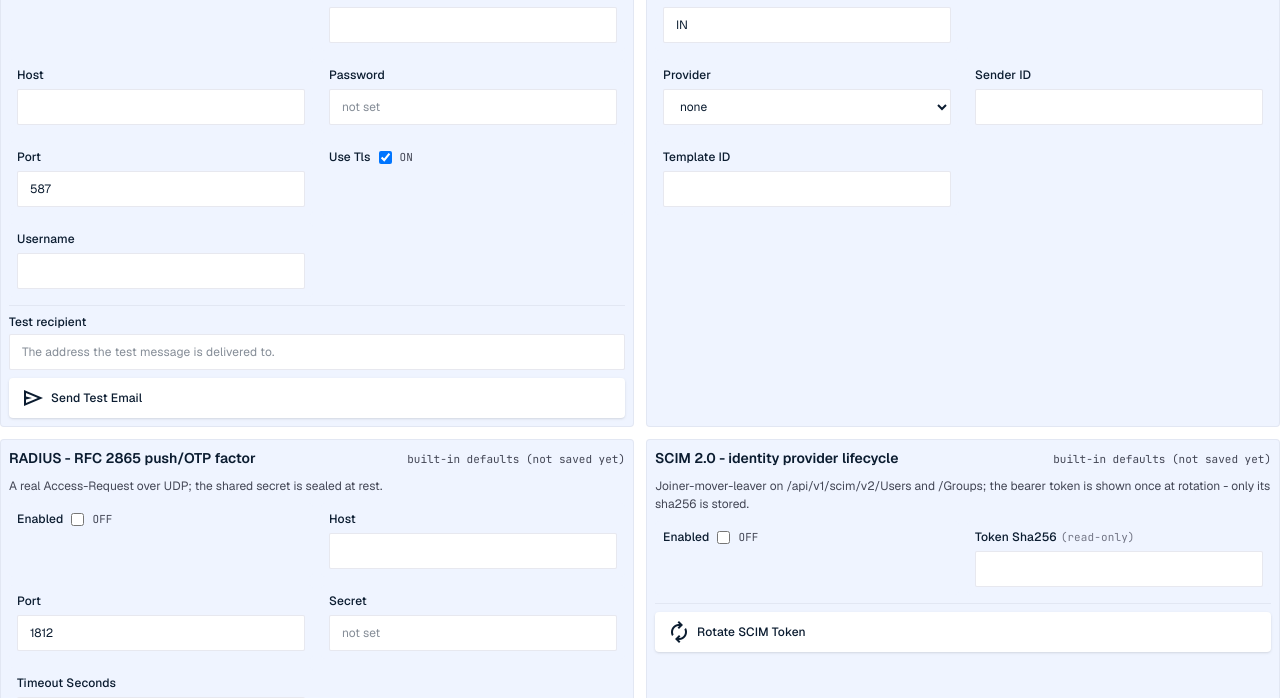
Scenario: settings 11.3 actions (screen 11, ADR-0015) › the SMTP test renders the server 503 refusal verbatim (pristine rig)
(page scrolled)
Type "ops@example.com" into the field labelled "Test recipient" at [317, 352], box [9,334,625,370]
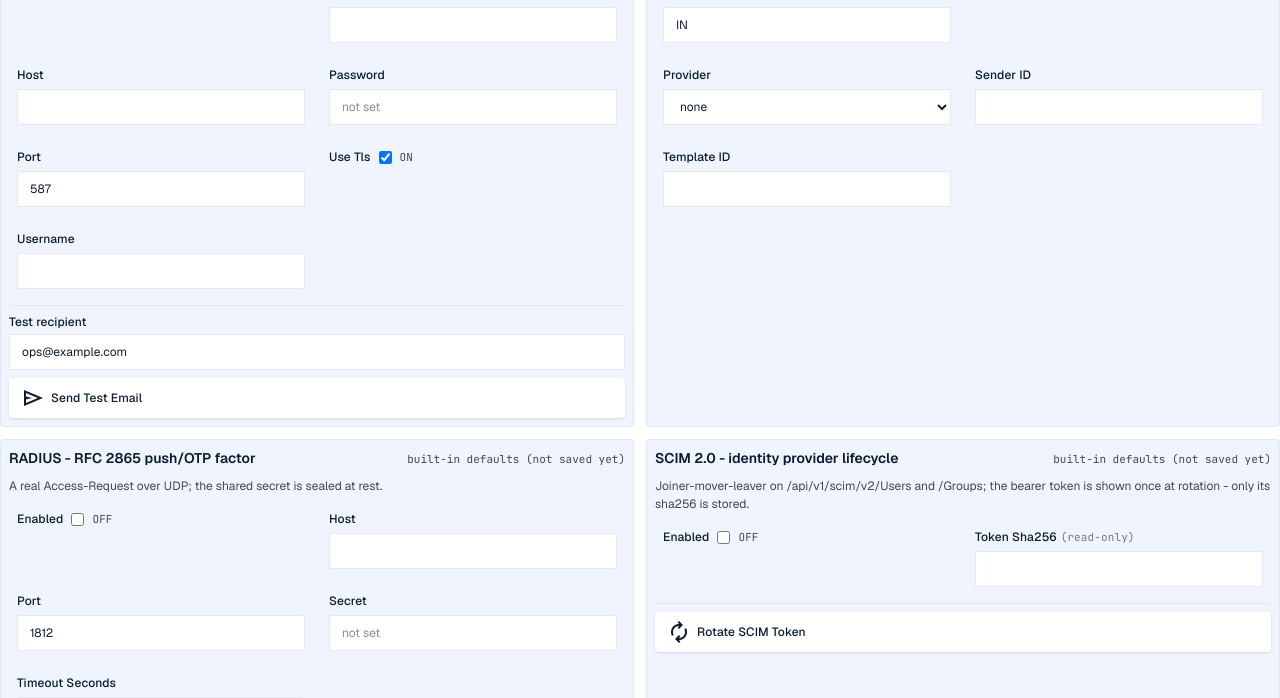
Click the button "Send Test Email" at [97, 398], box [9,378,625,418]
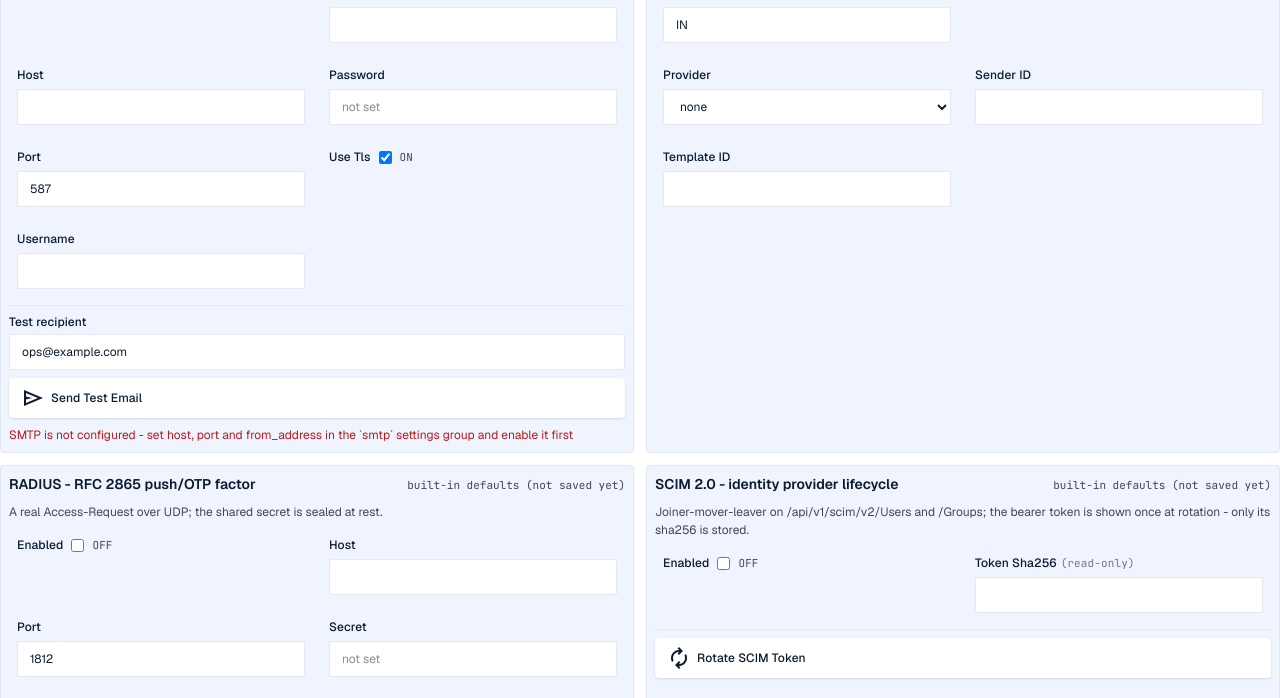
Expected: the text "SMTP is not configured" shows "SMTP is not configured - set host, port and from_address in the `smtp` settings group and enable it first", [9,427,573,443]
